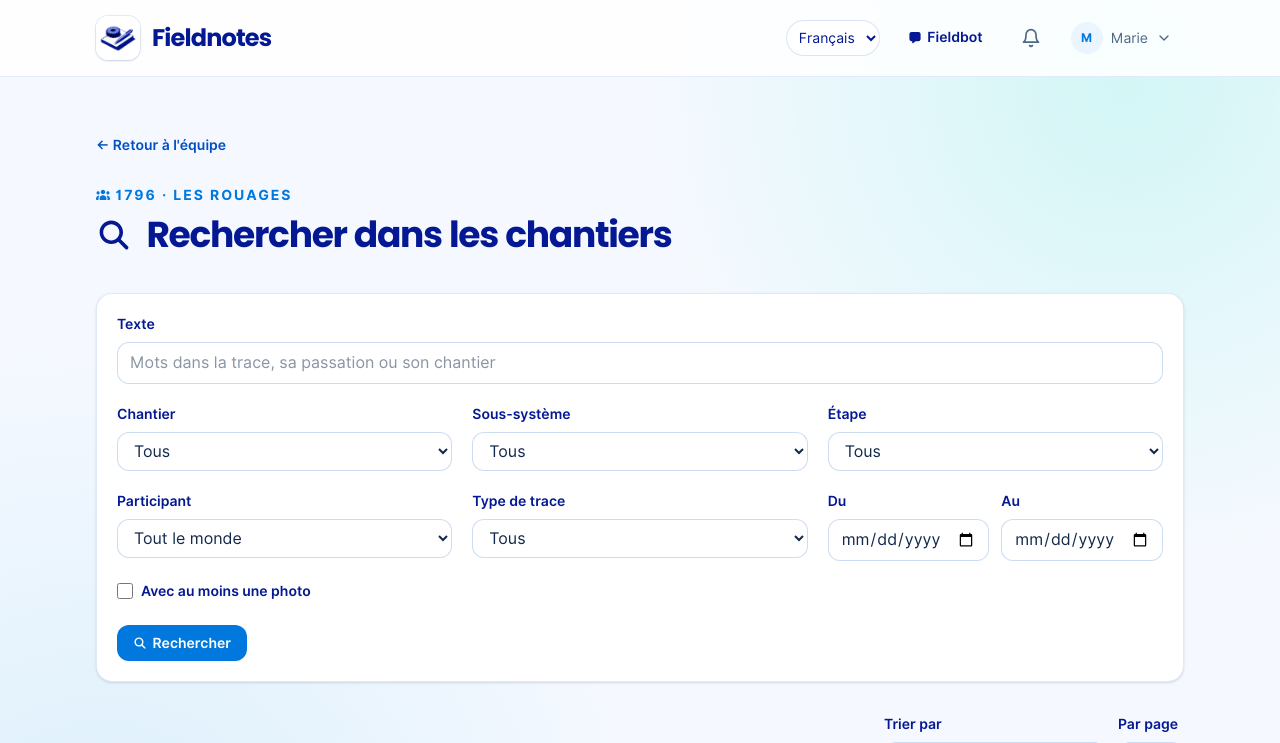
Test case: refuses a period that ends before it starts, without searching
Type "2026-11-30" into the date field labelled "Du".
click(909, 540); type("2026-11-30")  # box [828, 519, 989, 561]
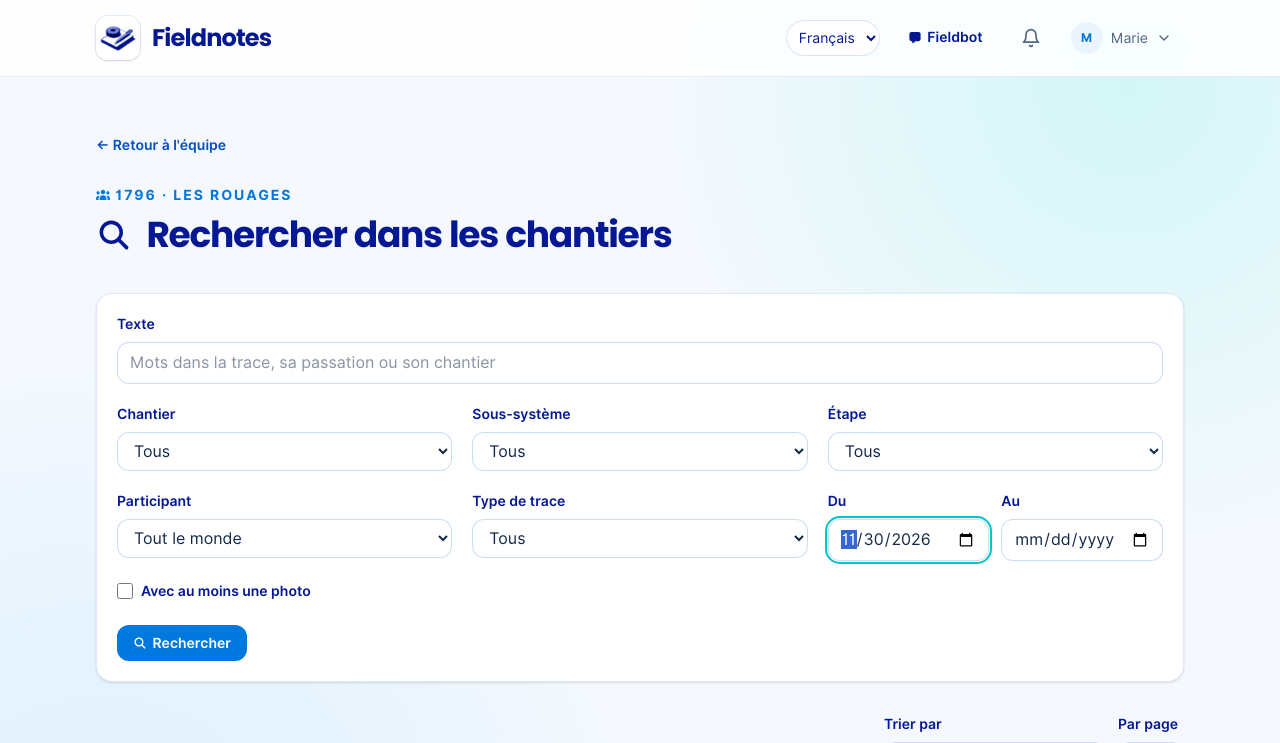
Type "2026-11-01" into the date field labelled "Au".
click(1082, 540); type("2026-11-01")  # box [1001, 519, 1163, 561]
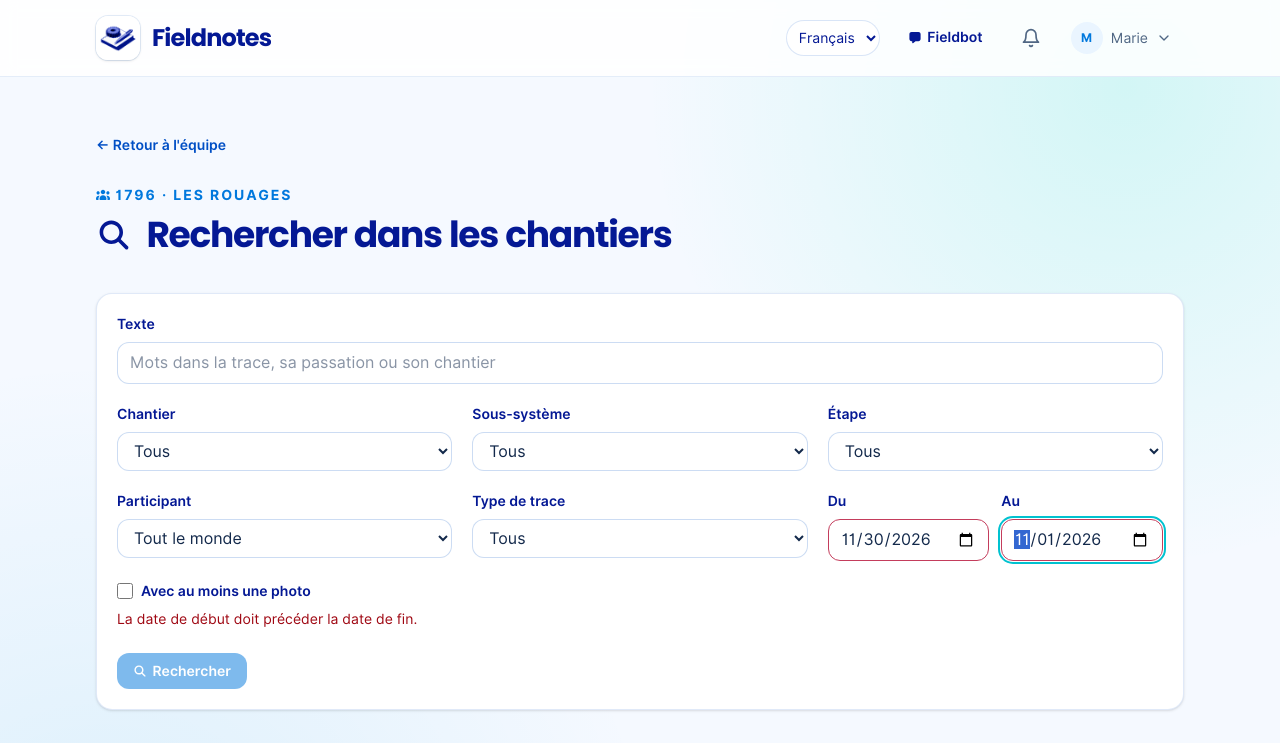
Expected: the text "La date de début doit précéder la date de fin." is shown, [117, 611, 417, 627]
Expected: the button "Rechercher" is disabled, [117, 653, 247, 689]
